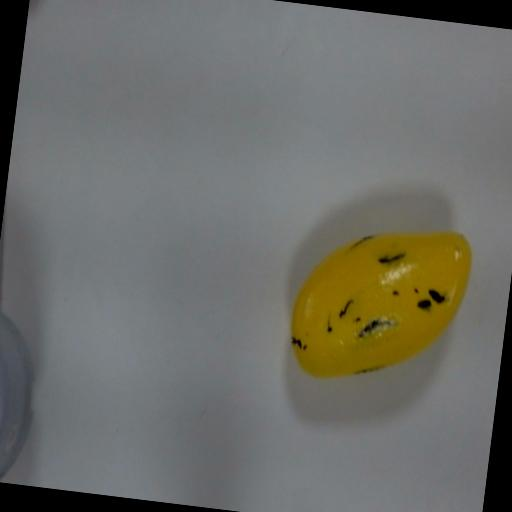Defective: (275, 204, 478, 414)
